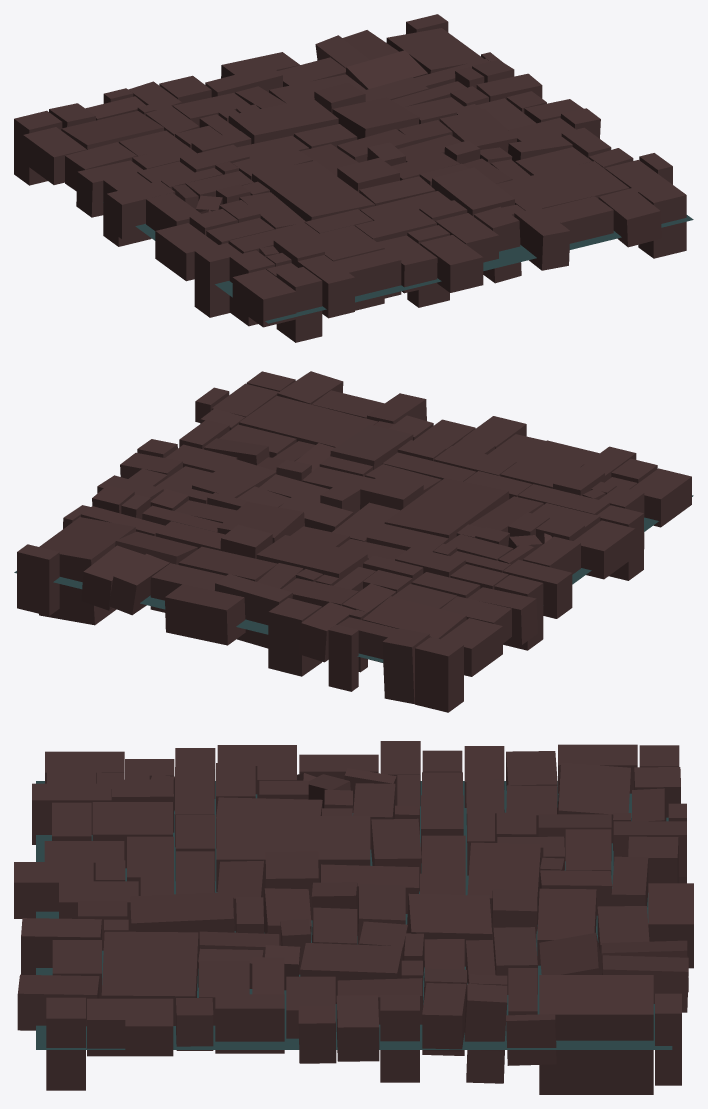
File: SM_Pavement02.FBX
The picture shows the model from 3 angles, top to bottom: view 1: azimuth 30°, elevation 25°; view 2: azimuth 150°, elevation 25°; view 3: azimuth 270°, elevation 25°; orthographic projection. The views are drawn at different scales.
Parts seen in each view (by area): view 1: Box099; view 2: Box099; view 3: Box099.
Boxes of the visible parts, <box> form: Box099: <box>14,14,693,342</box>; Box099: <box>14,371,693,712</box>; Box099: <box>14,741,693,1094</box>.
Bounding box in the file's own units: 425 × 73.01 × 427.
